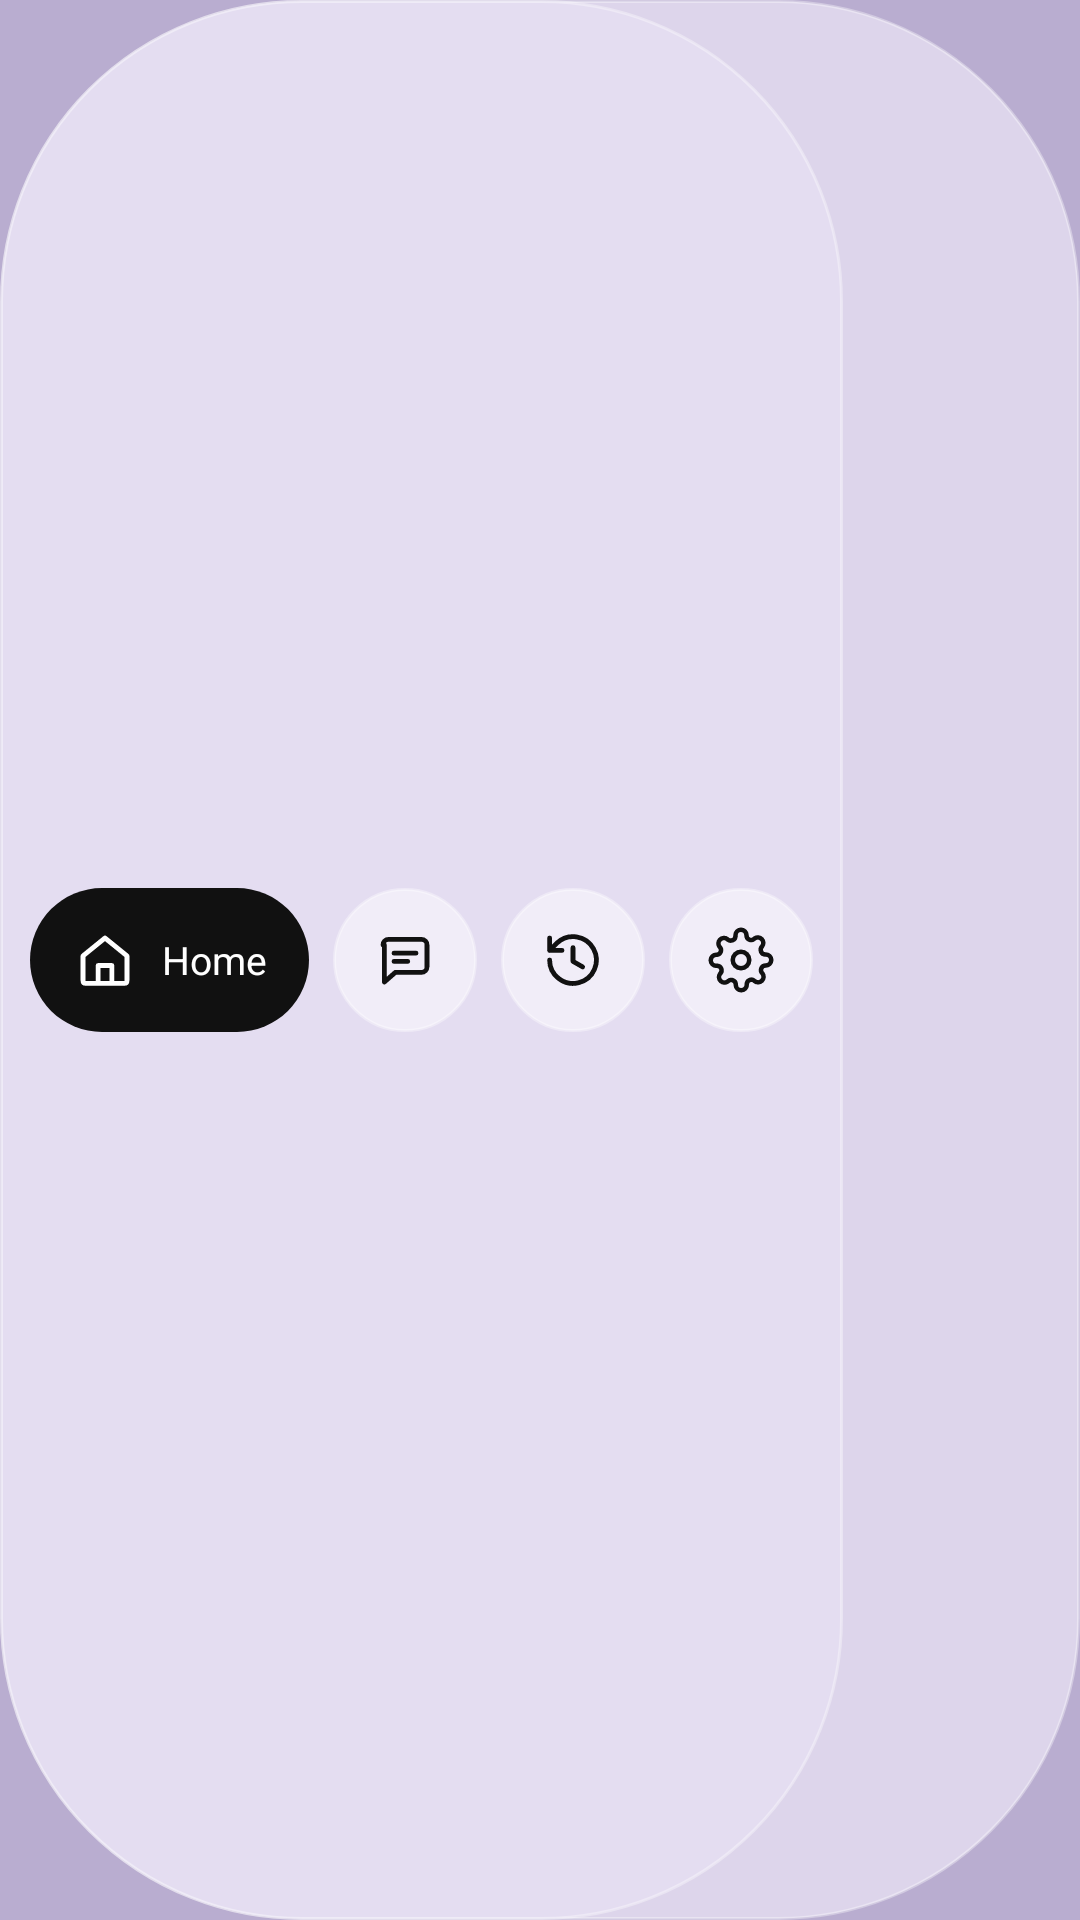

Named icons in this screenshot (1080px×1920px) and their centers, (x,y):
chat: (405,961)
history: (573,960)
settings: (741,960)
